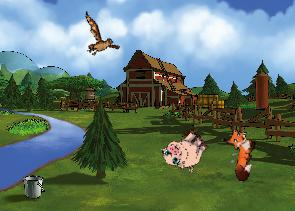eagle: (69, 11, 127, 65)
fox: (215, 124, 260, 182)
pig: (157, 122, 213, 178)
